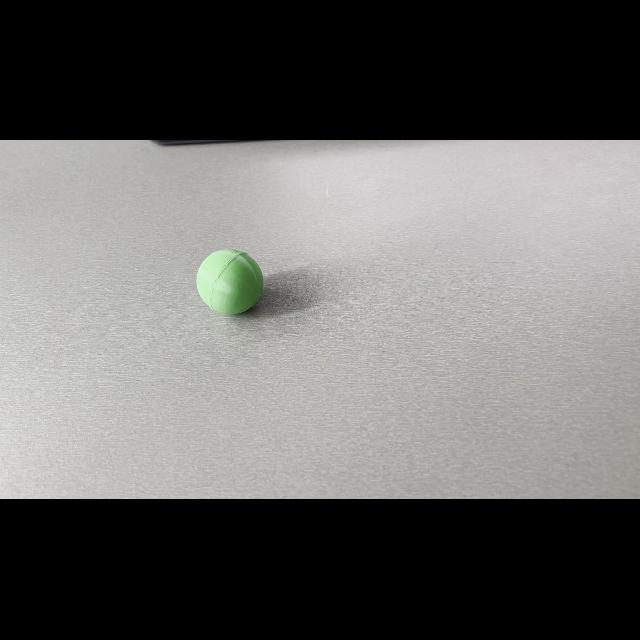objects: (193, 244, 271, 322)
